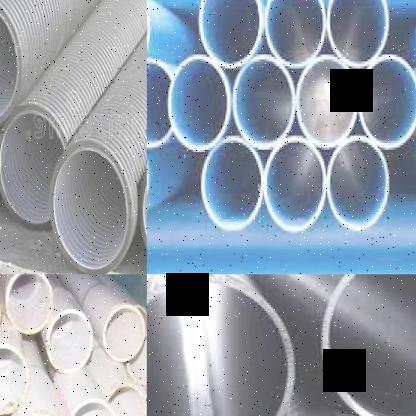pipe: (147, 274, 299, 416), (315, 274, 416, 416), (50, 139, 133, 274), (0, 104, 68, 227), (264, 136, 326, 232), (201, 136, 263, 230), (327, 136, 389, 230), (296, 55, 358, 148), (169, 54, 229, 150), (233, 54, 294, 148), (357, 55, 416, 149), (200, 0, 260, 68), (327, 0, 388, 66), (264, 0, 325, 66), (47, 309, 94, 373), (6, 274, 53, 334), (0, 0, 22, 128), (104, 304, 146, 362), (147, 59, 171, 148), (0, 343, 29, 414), (108, 383, 147, 416), (126, 334, 147, 384), (66, 398, 117, 416)
